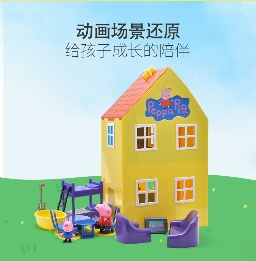Peppa: (94, 201, 115, 229)
